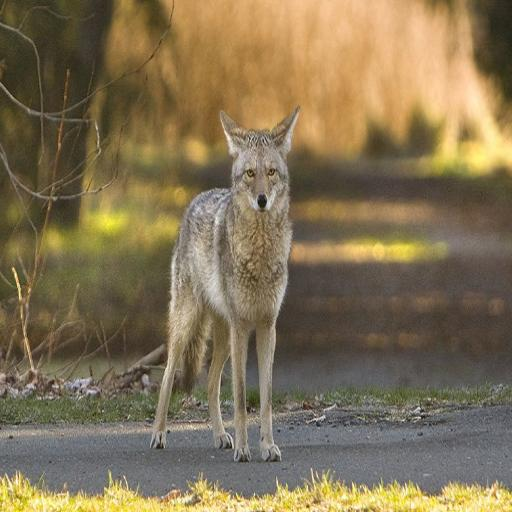wolf: (139, 87, 318, 483)
